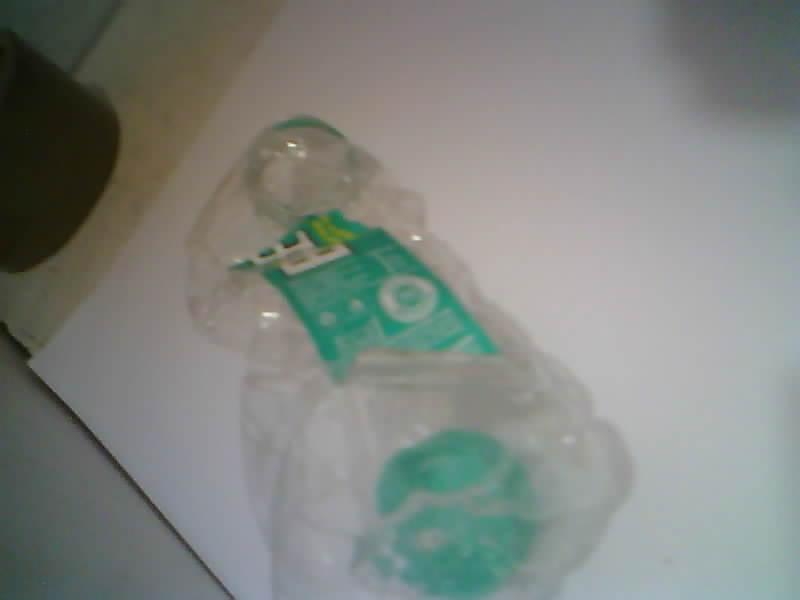non-biodegradable: (190, 117, 626, 599)
